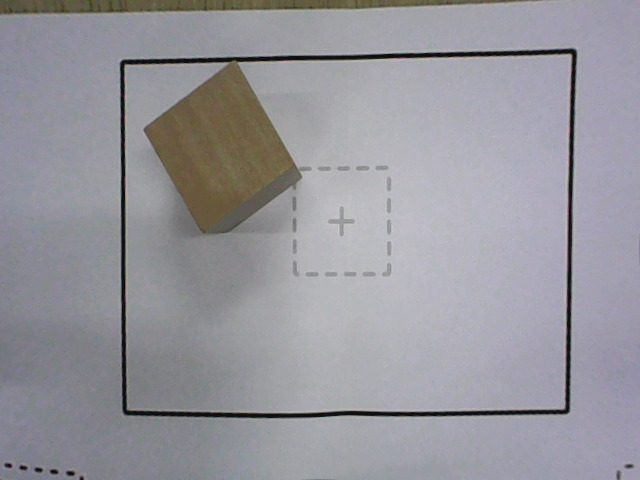upside of big cube: (143, 61, 293, 234)
